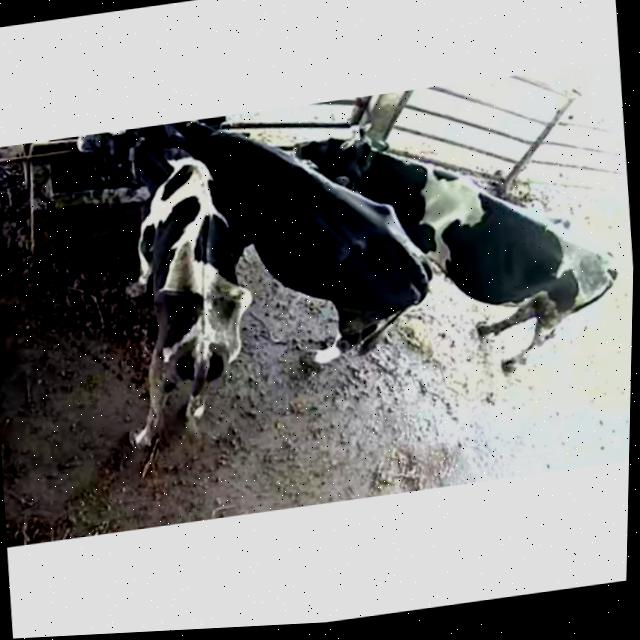drink: (142, 109, 266, 189)
